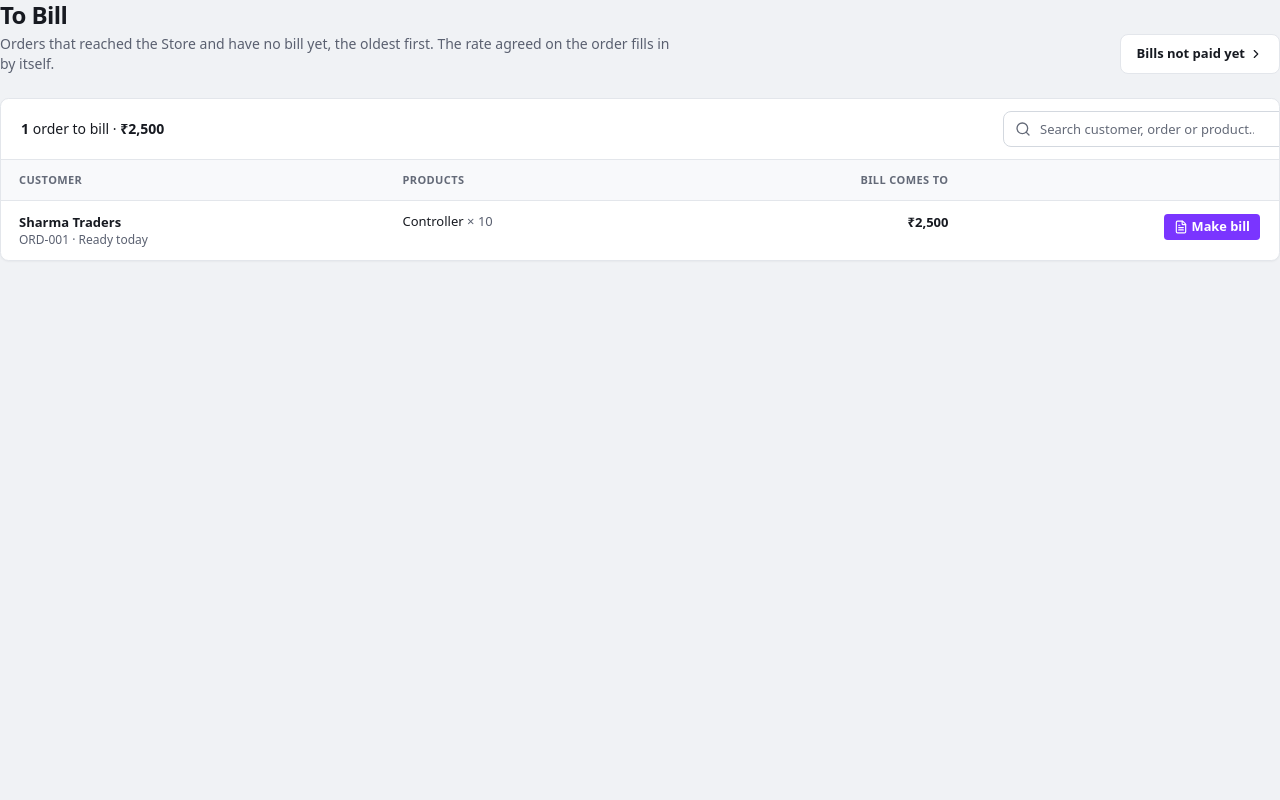
Test case: To Bill › opens the new bill as soon as it is made
This screenshot has width=1280, height=800.
Step 1. Click the button "Make bill" → (1212, 226), box [1163, 212, 1261, 240]
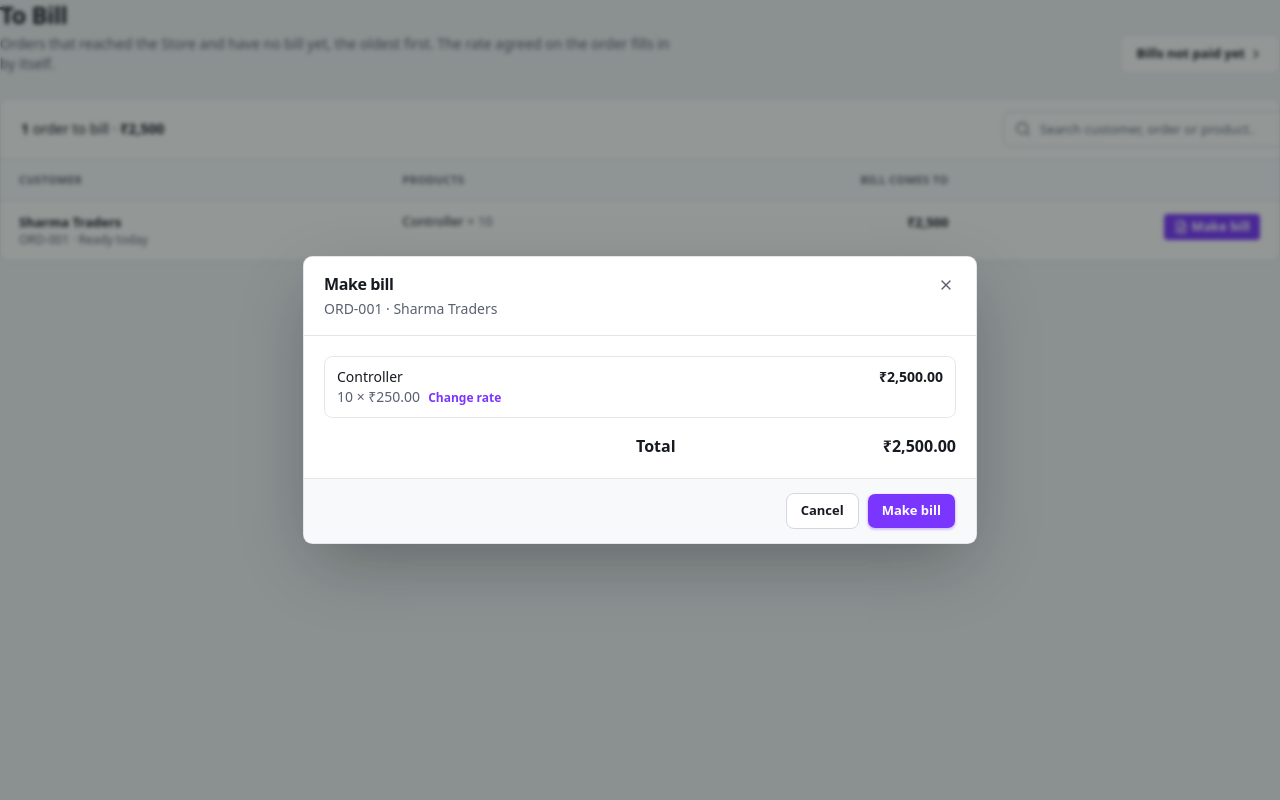
Step 2. Click the button "Make bill" → (911, 511), box [867, 493, 956, 529]
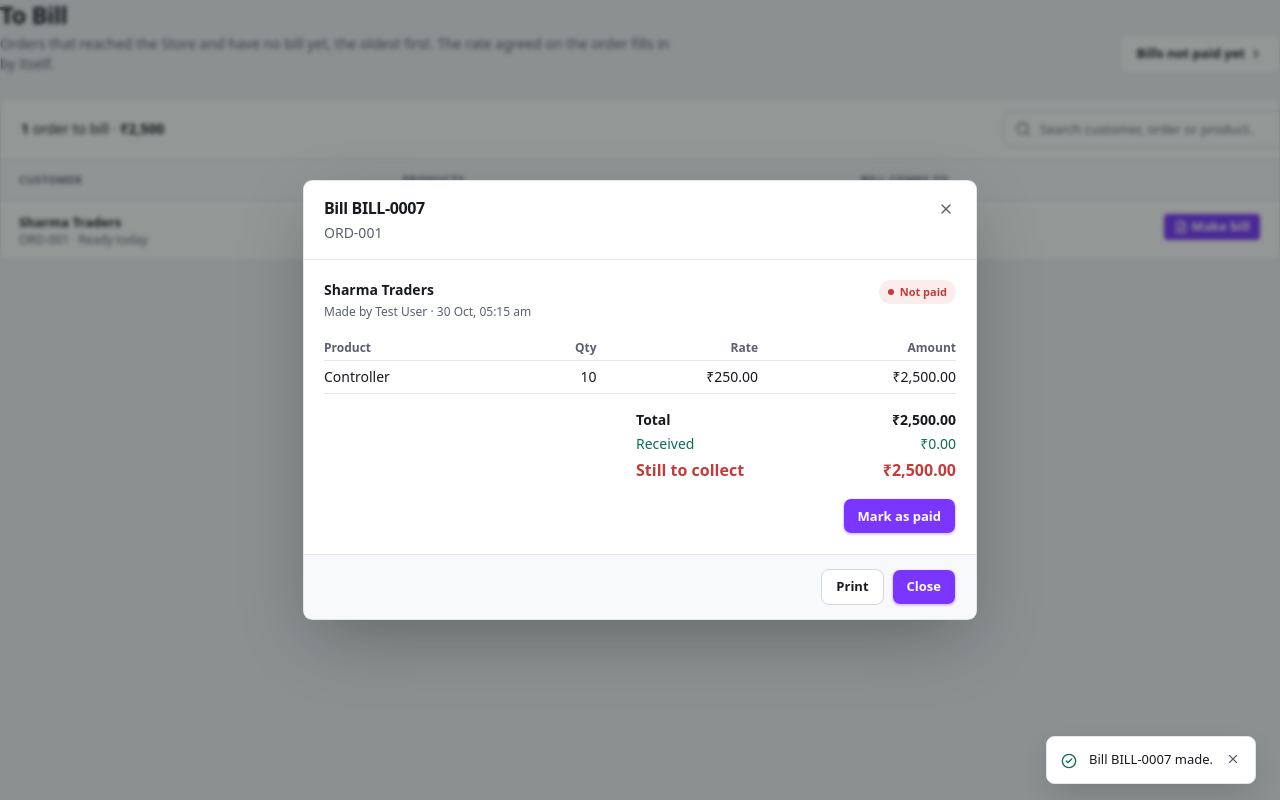
Expected: the heading "Bill BILL-0007" is shown, [324, 197, 425, 219]
Expected: the button "Mark as paid" is shown, [843, 498, 956, 534]
